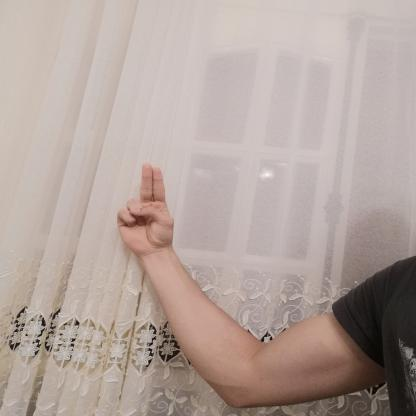TA: (109, 156, 182, 261)
